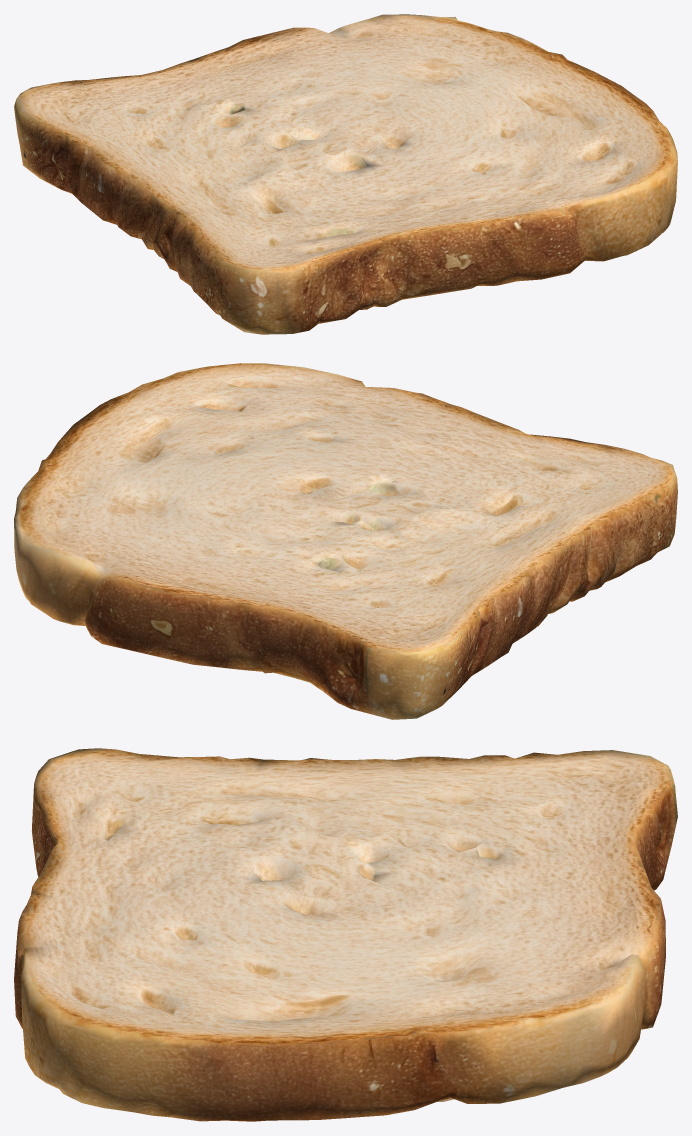
Rendered from bread (1).glb.
3 views of the same model, one above another, from view 1: azimuth 30°, elevation 25°; view 2: azimuth 150°, elevation 25°; view 3: azimuth 270°, elevation 25° (orthographic). The views are drawn at different scales.
Visible parts, largest first — view 1: Mesh10; view 2: Mesh10; view 3: Mesh10.
Part boxes in pixels (left/top/right/bottom): Mesh10: left=14, top=14, right=677, bottom=334; Mesh10: left=14, top=363, right=677, bottom=719; Mesh10: left=14, top=748, right=677, bottom=1121.
Size of the model in its own units: 1.91 by 0.2634 by 1.79.
1 material, 1 textured.
